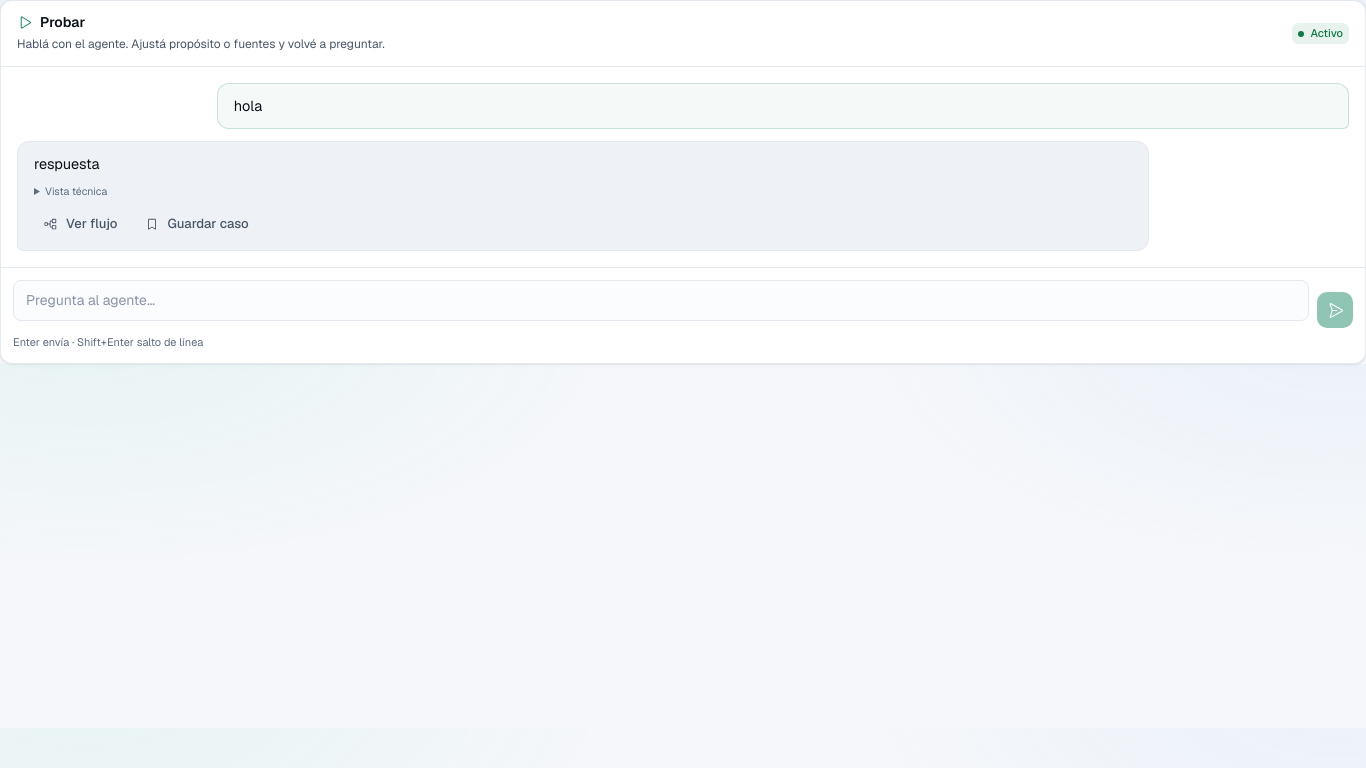
Test: AgentTestChat › click derecho en la respuesta abre Ver flujo con los pasos del agente
Right-click the text "respuesta" at x=583, y=196, box left=17, top=141, right=1149, bottom=251
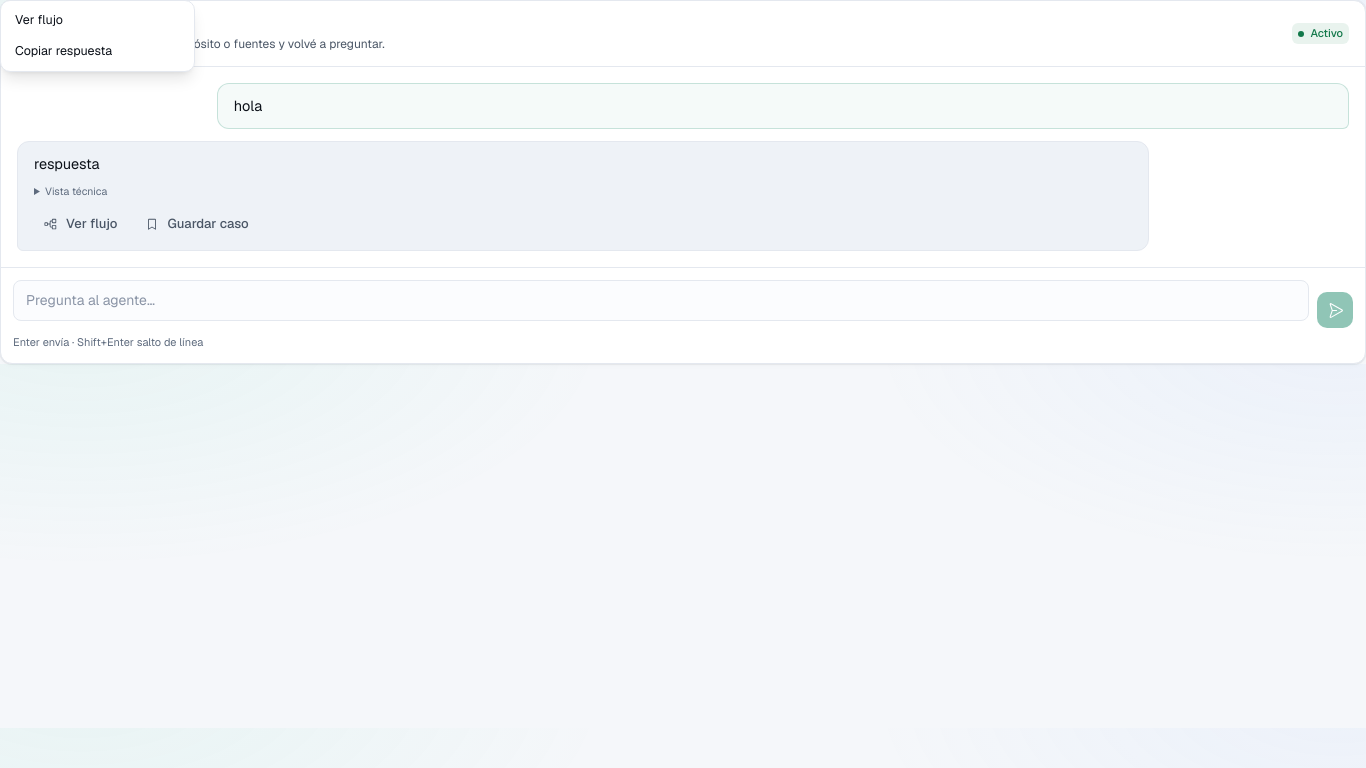
Click the menu item "Ver flujo" at x=98, y=20, box left=5, top=5, right=190, bottom=36
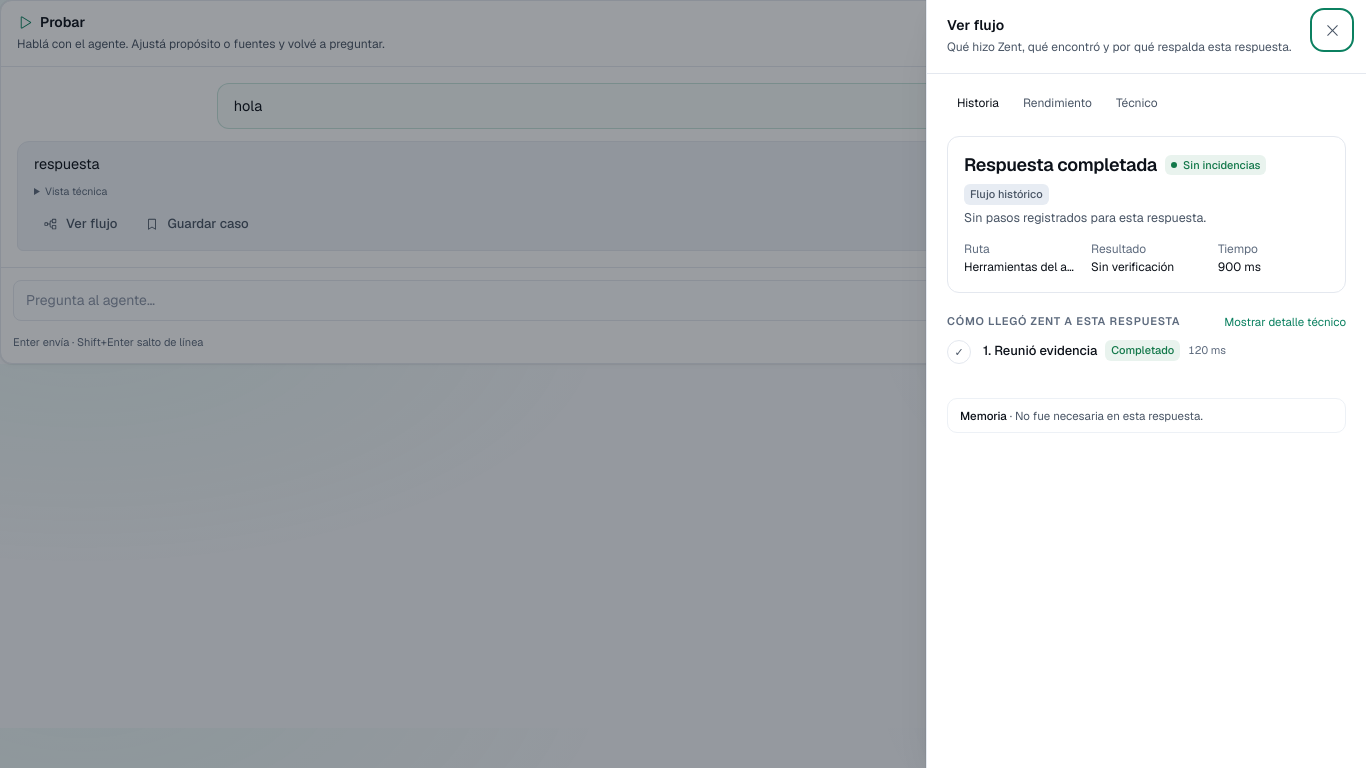
Expected: the text "Respuesta completada" is shown, left=964, top=153, right=1157, bottom=176
Click the button "1. Reunió evidencia Completado 120 ms" at x=1164, y=351, box left=983, top=340, right=1346, bottom=361
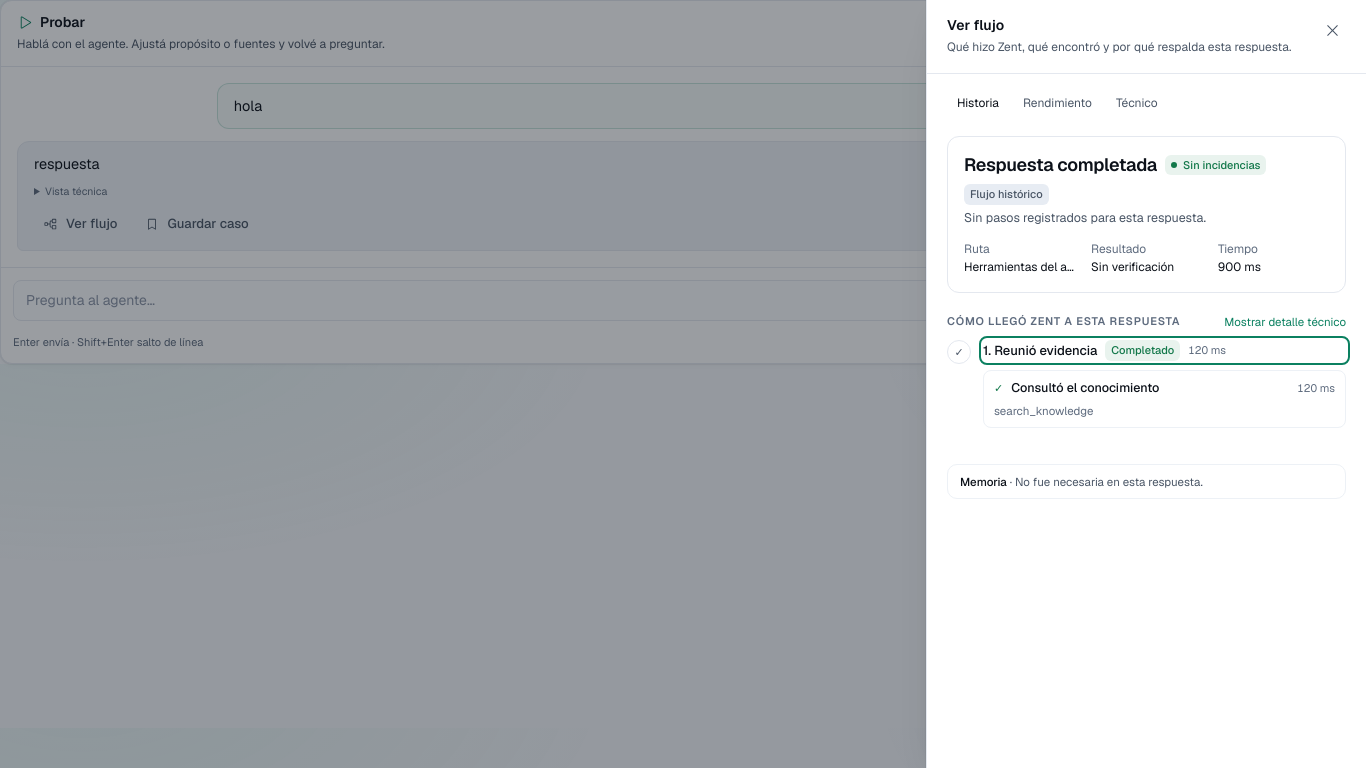
Expected: the text "900 ms" is shown, left=1218, top=259, right=1261, bottom=275
Expected: the text "Consultó el conocimiento" is shown, left=1011, top=379, right=1160, bottom=396
Expected: the text "search_knowledge" is shown, left=994, top=402, right=1094, bottom=419
